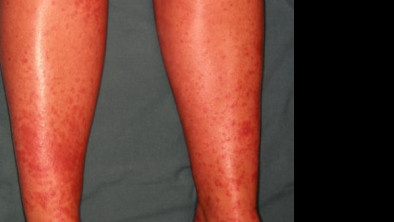SJS-TEN: (0, 42, 103, 222), (205, 50, 260, 222)
